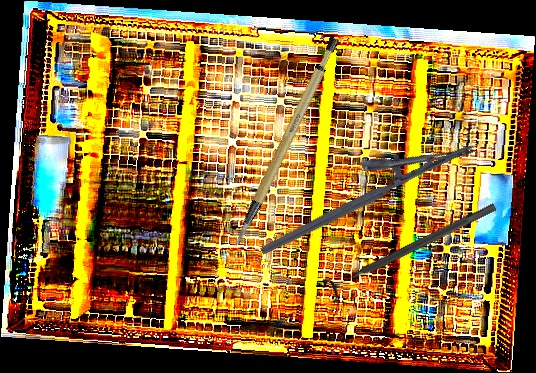Fixation Ring: (321, 194, 502, 305)
Needle Holder: (245, 114, 477, 257)
Scalpel Handle: (200, 33, 367, 251)
